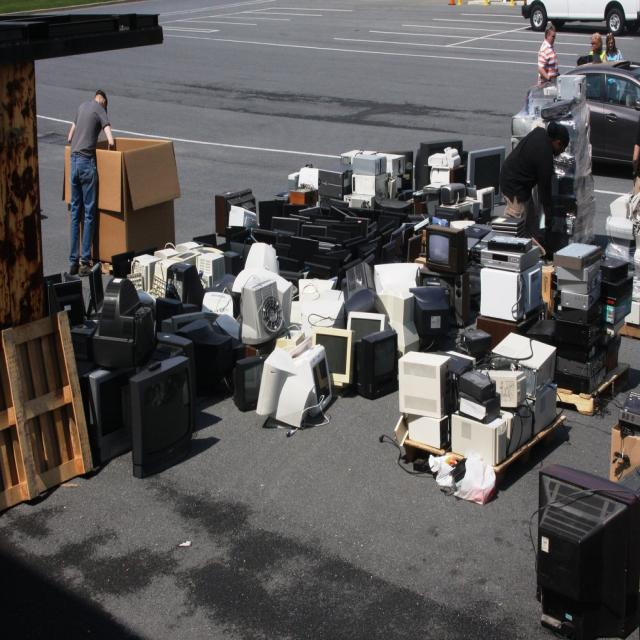hazard: (90, 86, 638, 568)
